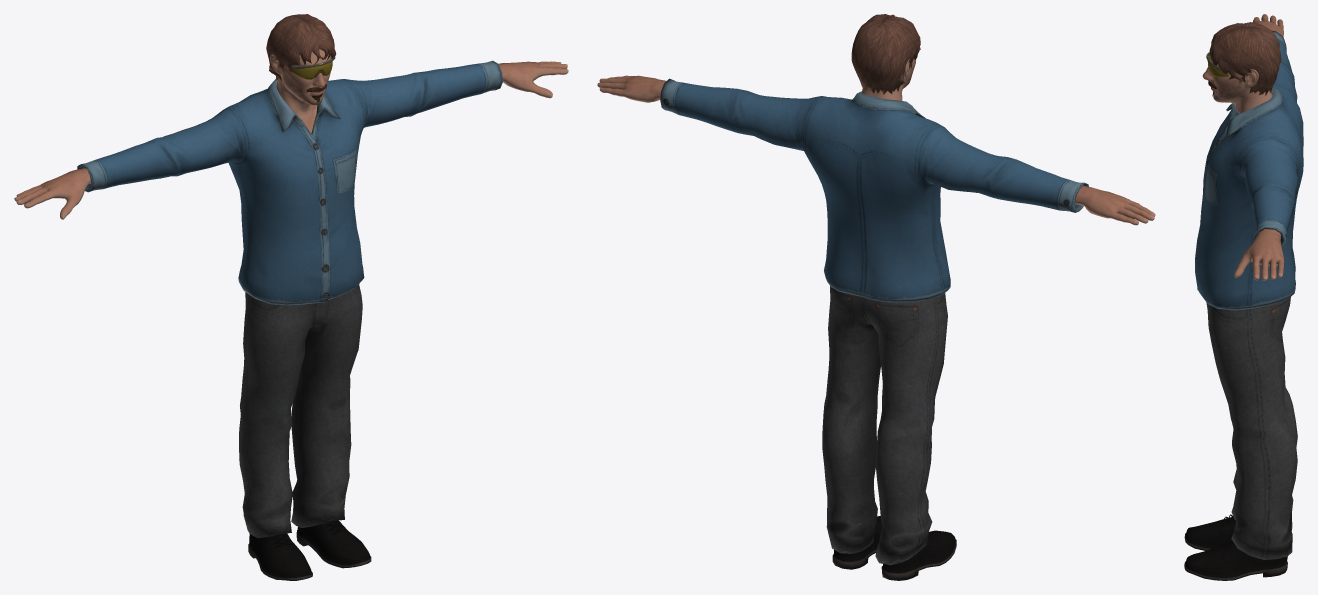
Rendered from JanitorMartinez.obj.
3 views of the same model, side by side, from view 1: azimuth 30°, elevation 25°; view 2: azimuth 150°, elevation 25°; view 3: azimuth 270°, elevation 25° (orthographic).
Parts seen in each view (by area): view 1: Tops, Bottoms, Body, Shoes, Hair; view 2: Tops, Bottoms, Hair, Body, Shoes; view 3: Tops, Bottoms, Shoes, Hair, Body, Eyewear.
Part boxes in pixels (<box>): Tops: <box>77,60,502,305</box>; Bottoms: <box>239,284,362,537</box>; Body: <box>14,49,568,219</box>; Shoes: <box>248,520,371,580</box>; Hair: <box>266,14,336,80</box>; Tops: <box>660,78,1088,302</box>; Bottoms: <box>822,286,947,565</box>; Hair: <box>851,14,920,94</box>; Body: <box>597,58,1155,225</box>; Shoes: <box>832,516,956,580</box>; Tops: <box>1195,30,1303,310</box>; Bottoms: <box>1206,297,1297,559</box>; Shoes: <box>1184,514,1287,580</box>; Hair: <box>1209,22,1281,95</box>; Body: <box>1202,14,1284,280</box>; Eyewear: <box>1206,52,1228,76</box>.
Size of the model in its own units: 194 by 181 by 36.66.
Materials: 8 (8 with a texture image).
